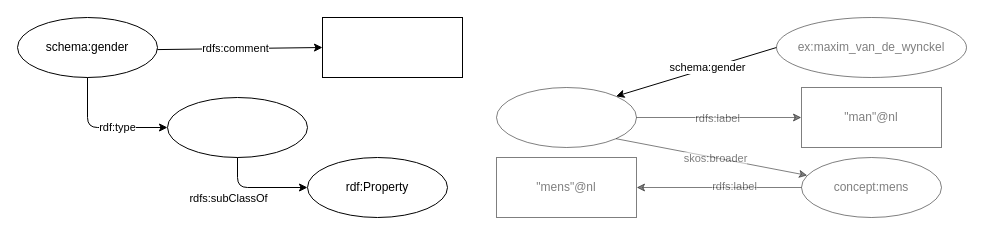
Image size: 984x235. Some labels were removed from this diagram. Each missing label, with the centre of its shape:
"Gender of something, typically a person ..."@en: (x=392, y=47)
concept:man: (x=566, y=117)
schema:Property: (x=237, y=127)
